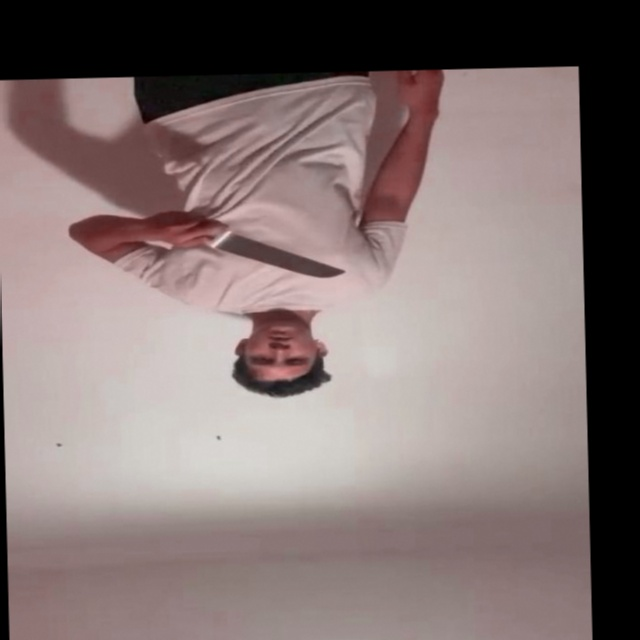Sharp-Object: (220, 235, 348, 281)
